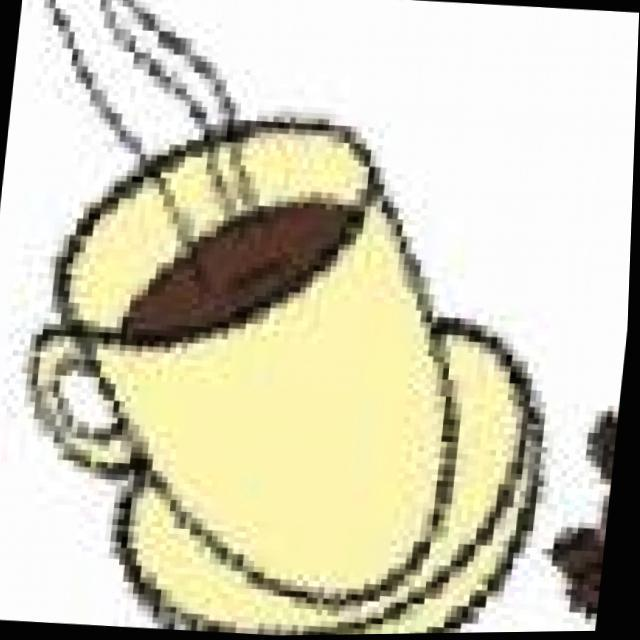cup: (0, 74, 456, 640)
